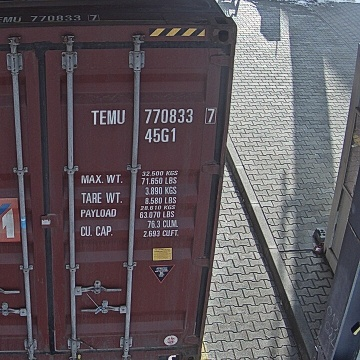serial_id: (91, 108, 214, 124)
